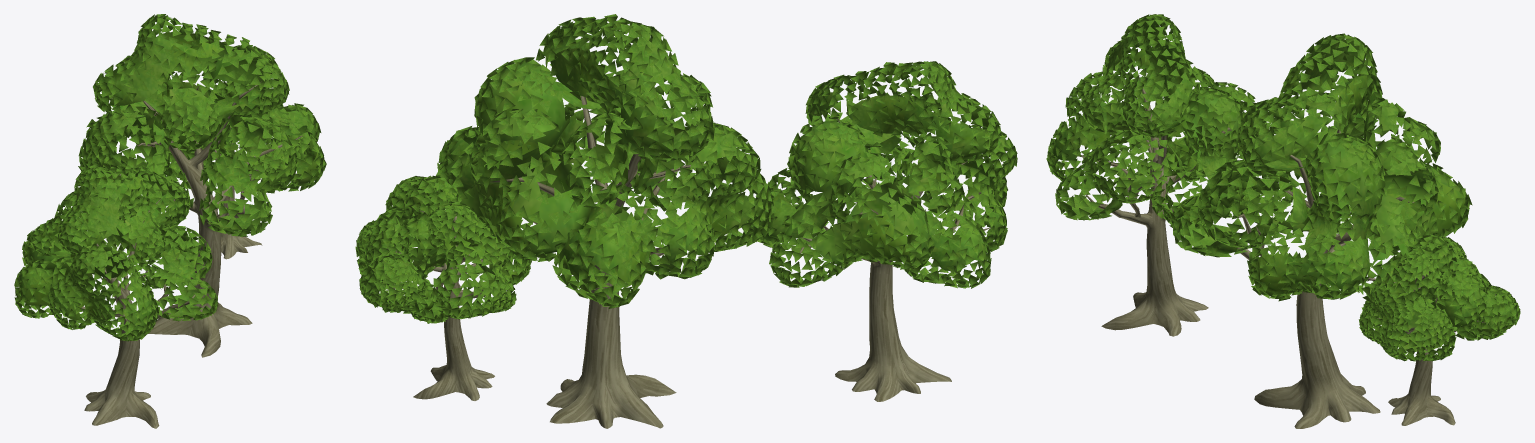
File: SM_ENV_LKNVLD_TreeSet_K.FBX
3 renders of one model, left to right at view 1: azimuth 30°, elevation 25°; view 2: azimuth 150°, elevation 25°; view 3: azimuth 270°, elevation 25°, orthographic. The views are drawn at different scales.
Visible parts, largest first — view 1: SM_ENV_LKNVLD_TreeSet_K; view 2: SM_ENV_LKNVLD_TreeSet_K; view 3: SM_ENV_LKNVLD_TreeSet_K.
Boxes of the visible parts, x1,y1,x2,y2 form: SM_ENV_LKNVLD_TreeSet_K: (14, 14, 326, 428); SM_ENV_LKNVLD_TreeSet_K: (355, 14, 1017, 428); SM_ENV_LKNVLD_TreeSet_K: (1046, 14, 1520, 428).
Size of the model in its own units: 2205 by 1720 by 2058.
